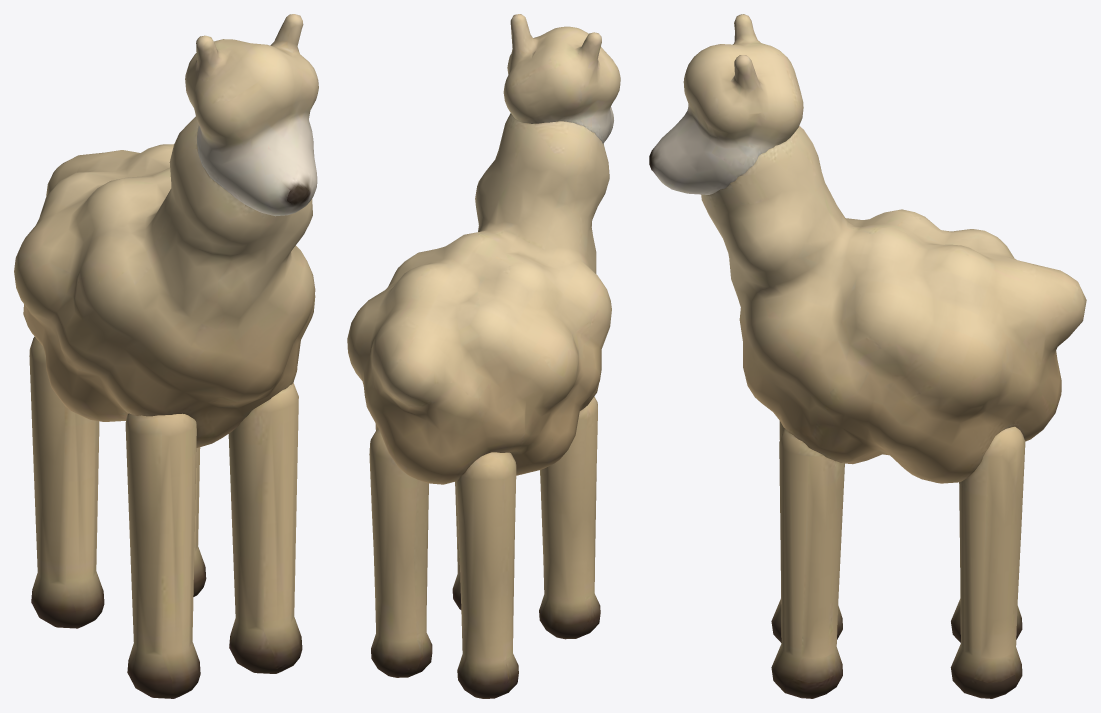
Rendered from animal_alpaca.glb.
The picture shows the model from 3 angles, left to right: view 1: azimuth 30°, elevation 25°; view 2: azimuth 150°, elevation 25°; view 3: azimuth 270°, elevation 25°; orthographic projection. The views are drawn at different scales.
Parts seen in each view (by area): view 1: animal_alpaca, head, leg0, leg1, leg2, leg3; view 2: animal_alpaca, leg2, leg3, leg0, head, leg1; view 3: animal_alpaca, head, leg1, leg3.
Part boxes in pixels (x1,y1,x2,y2): animal_alpaca: [14, 116, 315, 447]; head: [185, 14, 318, 216]; leg0: [125, 413, 200, 698]; leg1: [228, 382, 302, 673]; leg2: [29, 336, 104, 628]; leg3: [193, 447, 206, 596]; animal_alpaca: [347, 113, 611, 484]; leg2: [456, 452, 518, 698]; leg3: [369, 428, 432, 677]; leg0: [539, 396, 600, 639]; head: [503, 14, 620, 143]; leg1: [452, 481, 461, 609]; animal_alpaca: [701, 126, 1086, 483]; head: [649, 14, 803, 194]; leg1: [771, 428, 844, 698]; leg3: [950, 426, 1025, 698].
Size of the model in its own units: 0.2688 by 0.7049 by 0.439.
1 material, 1 textured.
